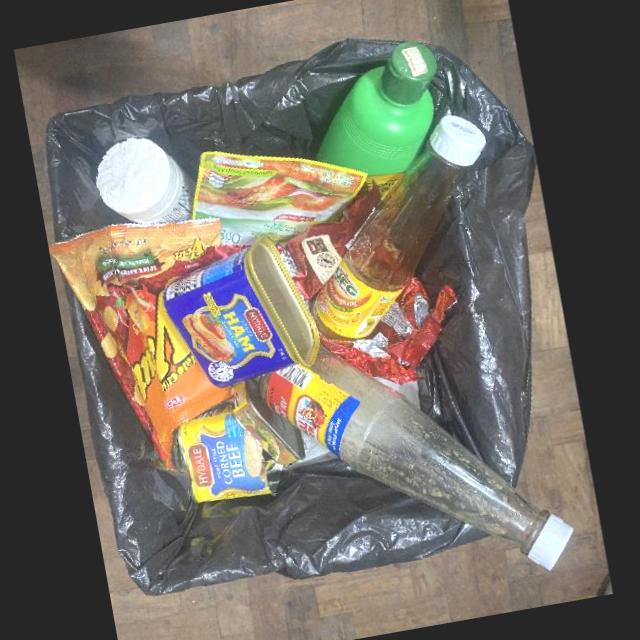bao_bi_thuc_pham: (48, 217, 243, 470), (191, 150, 368, 244), (318, 275, 457, 384), (275, 179, 381, 298)
chai_nhua: (315, 41, 437, 201), (95, 137, 196, 225)
chai_thuy_tinh: (260, 343, 573, 569), (312, 114, 485, 340)
nhom: (163, 235, 320, 388), (176, 379, 305, 503)
